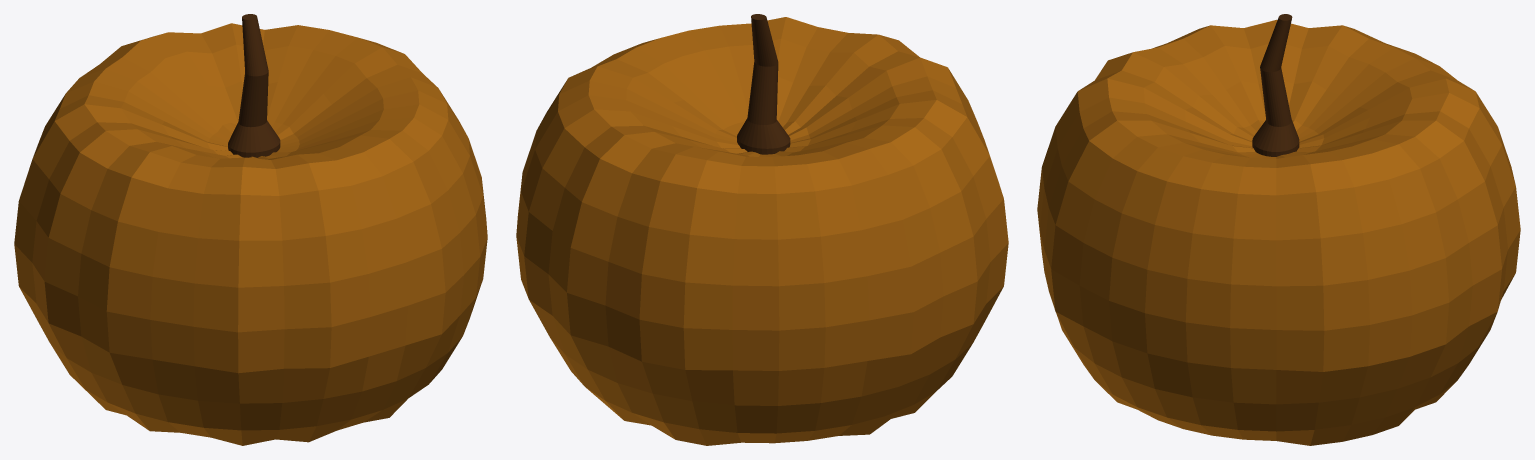
Rendered from pump2.glb.
3 views of the same model, side by side, from view 1: azimuth 30°, elevation 25°; view 2: azimuth 150°, elevation 25°; view 3: azimuth 270°, elevation 25° (orthographic). The views are drawn at different scales.
Parts seen in each view (by area): view 1: Сфера, Цилиндр; view 2: Сфера, Цилиндр; view 3: Сфера, Цилиндр.
Boxes of the visible parts, bbox=[...] form: Сфера: bbox=[14, 23, 487, 445]; Цилиндр: bbox=[228, 14, 280, 157]; Сфера: bbox=[516, 17, 1008, 445]; Цилиндр: bbox=[737, 14, 790, 154]; Сфера: bbox=[1037, 19, 1520, 445]; Цилиндр: bbox=[1252, 14, 1299, 156].
Size of the model in its own units: 1.98 by 1.65 by 1.98.
